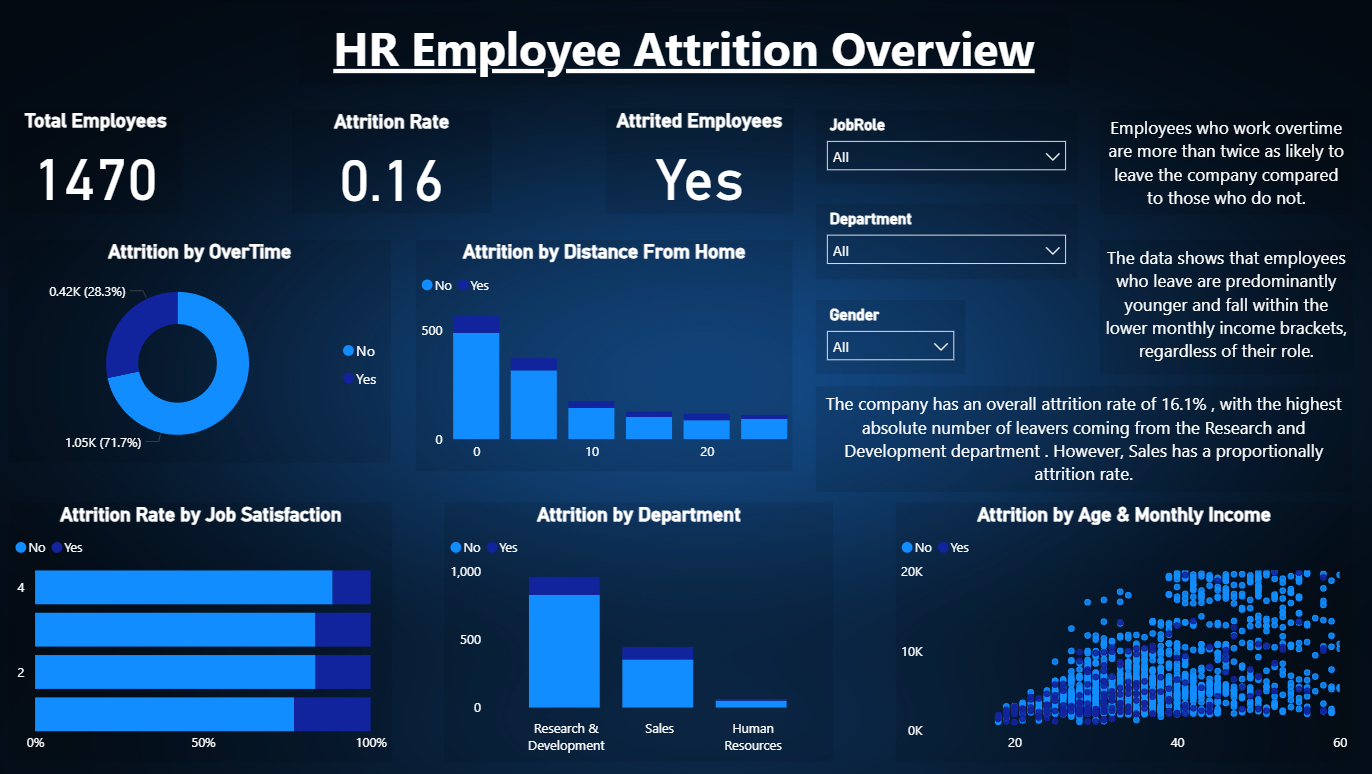

The page's visual inventory and layout, read from the dashboard file:
{"tool":"powerbi","page":{"name":"Page 1","canvas":[1280,720],"ordinal":0},"visuals":[{"type":"textbox","box":[280.7,11,717.6,68.3],"z":0},{"type":"card","title":"Total Employees","fields":{"Values":["Count(WA_Fn-UseC_-HR-Employee-Attrition.EmployeeNumber)"]},"box":[10.5,101.2,162.8,97.7],"z":1000},{"type":"card","title":"Attrition Rate","fields":{"Values":["WA_Fn-UseC_-HR-Employee-Attrition.Attrition Rate"]},"box":[274.8,101.8,185.4,96.1],"z":2000},{"type":"card","title":"Attrited Employees","fields":{"Values":["Max(WA_Fn-UseC_-HR-Employee-Attrition.Attrition)"]},"box":[566.3,101.2,174.4,97.7],"z":3000},{"type":"columnChart","title":"Attrition by Department","fields":{"Category":["WA_Fn-UseC_-HR-Employee-Attrition.Department"],"Y":["Count(WA_Fn-UseC_-HR-Employee-Attrition.EmployeeNumber)"],"Series":["WA_Fn-UseC_-HR-Employee-Attrition.Attrition"]},"box":[416.1,467,361.8,242],"z":4000},{"type":"donutChart","title":"Attrition by OverTime","fields":{"Category":["WA_Fn-UseC_-HR-Employee-Attrition.OverTime"],"Y":["Count(WA_Fn-UseC_-HR-Employee-Attrition.EmployeeNumber)"]},"box":[11,223.3,356.4,207.5],"z":5000},{"type":"hundredPercentStackedBarChart","title":"Attrition Rate by Job Satisfaction","fields":{"Category":["WA_Fn-UseC_-HR-Employee-Attrition.JobSatisfaction"],"Y":["Count(WA_Fn-UseC_-HR-Employee-Attrition.EmployeeNumber)"],"Series":["WA_Fn-UseC_-HR-Employee-Attrition.Attrition"]},"box":[11.3,467,356.2,242],"z":6000},{"type":"slicer","fields":{"Values":["WA_Fn-UseC_-HR-Employee-Attrition.Department"]},"box":[762.1,190,243.1,70.1],"z":7000},{"type":"slicer","fields":{"Values":["WA_Fn-UseC_-HR-Employee-Attrition.Gender"]},"box":[762.1,279.3,139.1,69],"z":8000},{"type":"slicer","fields":{"Values":["WA_Fn-UseC_-HR-Employee-Attrition.JobRole"]},"box":[762.1,101.8,243.1,69],"z":9000},{"type":"scatterChart","title":"Attrition by Age & Monthly Income","fields":{"X":["Sum(WA_Fn-UseC_-HR-Employee-Attrition.Age)"],"Y":["Sum(WA_Fn-UseC_-HR-Employee-Attrition.MonthlyIncome)"],"Series":["WA_Fn-UseC_-HR-Employee-Attrition.Attrition"],"Category":["WA_Fn-UseC_-HR-Employee-Attrition.EmployeeNumber"]},"box":[835.6,467,425.1,242],"z":10000},{"type":"columnChart","title":"Attrition by Distance From Home","fields":{"Category":["WA_Fn-UseC_-HR-Employee-Attrition.DistanceFromHome (bins)"],"Y":["Count(WA_Fn-UseC_-HR-Employee-Attrition.EmployeeNumber)"],"Series":["WA_Fn-UseC_-HR-Employee-Attrition.Attrition"]},"box":[389.7,223.6,350.8,215.4],"z":11000},{"type":"textbox","box":[762.1,359.5,498.6,98.4],"z":12000},{"type":"textbox","box":[1025.6,102.3,236,96.5],"z":13000},{"type":"textbox","box":[1025.6,223.3,236,124.4],"z":14000}]}

Visuals, with their boxes in screenshot pixels (x1, y1, x2, y2), scaled from the page's 1280x720 canvas onto the 1372x774 screenshot:
textbox: {"left": 301, "top": 12, "right": 1070, "bottom": 85}
"Total Employees" card: {"left": 11, "top": 109, "right": 186, "bottom": 214}
"Attrition Rate" card: {"left": 295, "top": 109, "right": 493, "bottom": 213}
"Attrited Employees" card: {"left": 607, "top": 109, "right": 794, "bottom": 214}
"Attrition by Department" columnChart: {"left": 446, "top": 502, "right": 834, "bottom": 762}
"Attrition by OverTime" donutChart: {"left": 12, "top": 240, "right": 394, "bottom": 463}
"Attrition Rate by Job Satisfaction" hundredPercentStackedBarChart: {"left": 12, "top": 502, "right": 394, "bottom": 762}
slicer - WA_Fn-UseC_-HR-Employee-Attrition.Department: {"left": 817, "top": 204, "right": 1077, "bottom": 280}
slicer - WA_Fn-UseC_-HR-Employee-Attrition.Gender: {"left": 817, "top": 300, "right": 966, "bottom": 374}
slicer - WA_Fn-UseC_-HR-Employee-Attrition.JobRole: {"left": 817, "top": 109, "right": 1077, "bottom": 184}
"Attrition by Age & Monthly Income" scatterChart: {"left": 896, "top": 502, "right": 1351, "bottom": 762}
"Attrition by Distance From Home" columnChart: {"left": 418, "top": 240, "right": 794, "bottom": 472}
textbox: {"left": 817, "top": 386, "right": 1351, "bottom": 492}
textbox: {"left": 1099, "top": 110, "right": 1352, "bottom": 214}
textbox: {"left": 1099, "top": 240, "right": 1352, "bottom": 374}
